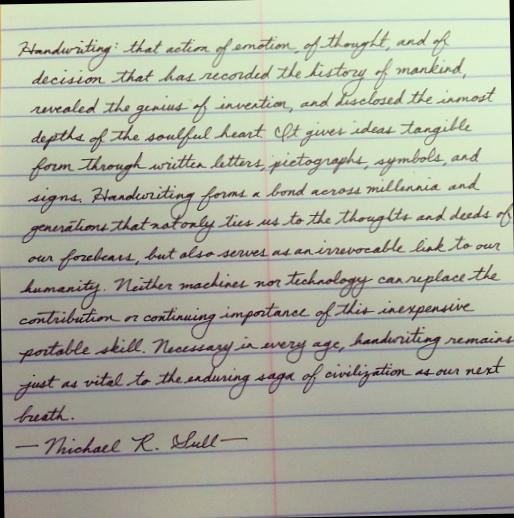text: (10, 354, 509, 406), (15, 322, 514, 373), (18, 260, 503, 312), (20, 200, 514, 250), (16, 294, 478, 346), (24, 170, 484, 222), (16, 25, 454, 75), (30, 54, 468, 102), (26, 84, 500, 128), (26, 233, 504, 276), (24, 145, 484, 186), (28, 114, 476, 154), (11, 428, 252, 460), (11, 402, 77, 428)
